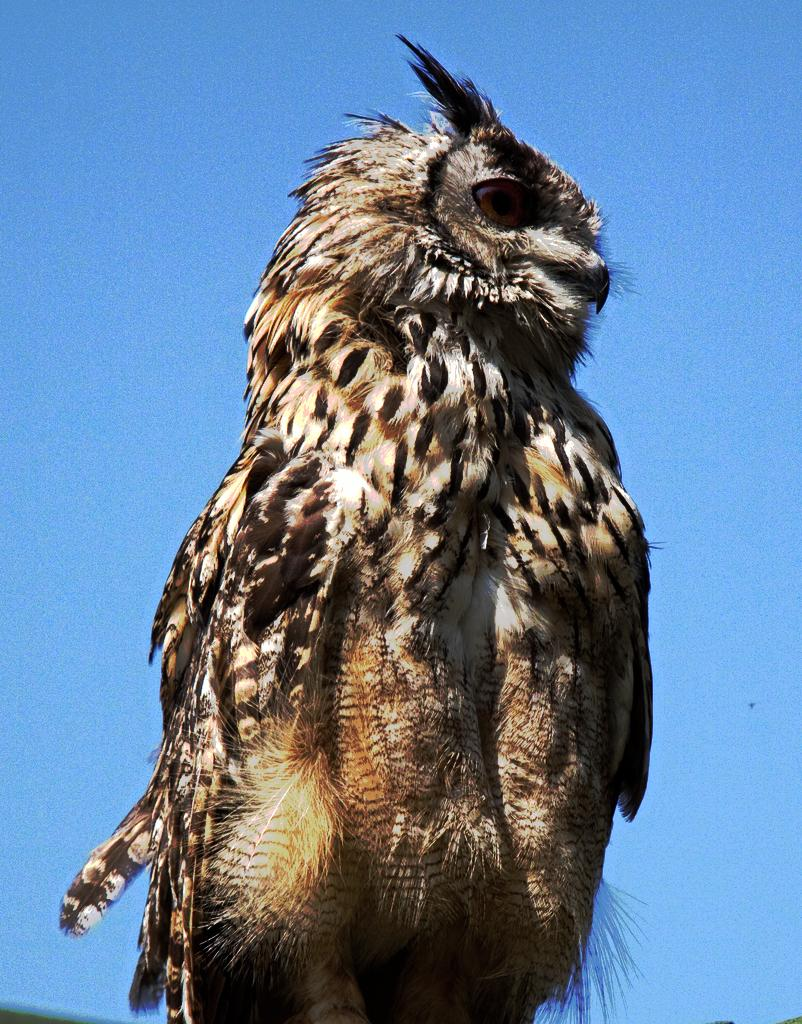Owl: (47, 30, 674, 1024)
